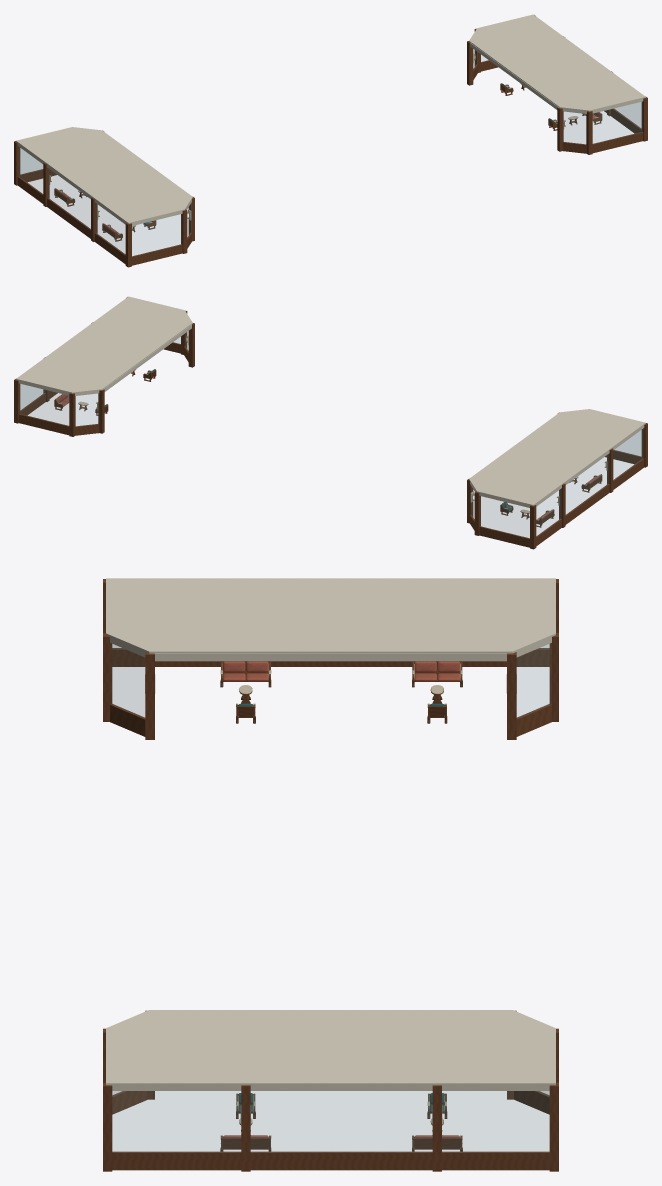
Rendered from AFT_CROWN_FOYER_WAITING_EDGES_r001.glb.
3 views of the same model, one above another, from view 1: azimuth 30°, elevation 25°; view 2: azimuth 150°, elevation 25°; view 3: azimuth 270°, elevation 25° (orthographic). The views are drawn at different scales.
Visible parts, largest first — view 1: ACFW_PortRoof3, ACFW_StarboardRoof2, ACFW_StarboardRoof3, ACFW_PortRoof1, ACFW_PortEdge5Glass, ACFW_StarboardEdge4Glass, ACFW_PortEdge4Glass, ACFW_PortEdge5Dado, ACFW_StarboardEdge3Glass, ACFW_StarboardEdge4Dado, ACFW_PortEdge4Dado, ACFW_StarboardRoof1 (+2 smaller); view 2: ACFW_PortRoof3, ACFW_StarboardRoof2, ACFW_StarboardRoof3, ACFW_PortRoof1, ACFW_PortEdge5Glass, ACFW_PortEdge0Glass, ACFW_StarboardEdge0Glass, ACFW_PortEdge5Dado, ACFW_StarboardEdge1Glass, ACFW_StarboardEdge0Dado, ACFW_PortEdge0Dado, ACFW_StarboardRoof0 (+2 smaller); view 3: ACFW_StarboardEdge5Glass, ACFW_StarboardRoof2, ACFW_PortRoof3, ACFW_PortRoof1, ACFW_StarboardRoof3, ACFW_StarboardEdge5Dado, ACFW_PortOpenEdgeHeader, ACFW_PortEdge5Dado, ACFW_StarboardEdge5Head, ACFW_PortEdge3Glass, ACFW_PortEdge1Glass, ACFW_PortRoof0 (+9 smaller).
Part boxes in pixels (x1,y1,x2,y2): ACFW_PortRoof3: (16, 141, 192, 223); ACFW_StarboardRoof2: (533, 15, 645, 106); ACFW_StarboardRoof3: (469, 14, 559, 107); ACFW_PortRoof1: (16, 130, 191, 196); ACFW_PortEdge5Glass: (19, 147, 125, 253); ACFW_StarboardEdge4Glass: (593, 102, 642, 143); ACFW_PortEdge4Glass: (132, 214, 181, 255); ACFW_PortEdge5Dado: (17, 176, 125, 264); ACFW_StarboardEdge3Glass: (563, 112, 586, 144); ACFW_StarboardEdge4Dado: (592, 132, 643, 153); ACFW_PortEdge4Dado: (132, 244, 182, 265); ACFW_StarboardRoof1: (560, 97, 645, 111); ACFW_PortRoof3: (533, 412, 645, 505); ACFW_StarboardRoof2: (17, 296, 192, 378); ACFW_StarboardRoof3: (16, 323, 192, 389); ACFW_PortRoof1: (469, 412, 559, 504); ACFW_PortEdge5Glass: (536, 429, 642, 535); ACFW_PortEdge0Glass: (480, 496, 529, 538); ACFW_StarboardEdge0Glass: (19, 384, 68, 425); ACFW_PortEdge5Dado: (536, 458, 644, 546); ACFW_StarboardEdge1Glass: (75, 394, 98, 426); ACFW_StarboardEdge0Dado: (18, 414, 69, 435); ACFW_PortEdge0Dado: (479, 526, 529, 547); ACFW_StarboardRoof0: (16, 379, 101, 393); ACFW_StarboardEdge5Glass: (112, 1091, 549, 1152); ACFW_StarboardRoof2: (106, 1010, 555, 1085); ACFW_PortRoof3: (106, 578, 554, 651); ACFW_PortRoof1: (149, 578, 555, 653); ACFW_StarboardRoof3: (151, 1010, 555, 1082); ACFW_StarboardEdge5Dado: (112, 1151, 549, 1170); ACFW_PortOpenEdgeHeader: (155, 653, 506, 661); ACFW_PortEdge5Dado: (112, 648, 549, 666); ACFW_StarboardEdge5Head: (112, 1085, 549, 1090); ACFW_PortEdge3Glass: (112, 644, 144, 717); ACFW_PortEdge1Glass: (517, 644, 549, 717); ACFW_PortRoof0: (106, 579, 149, 653).
Bounding box in the file's own units: 56.44 × 4.52 × 21.44.
Materials: 22 (20 with a texture image).
